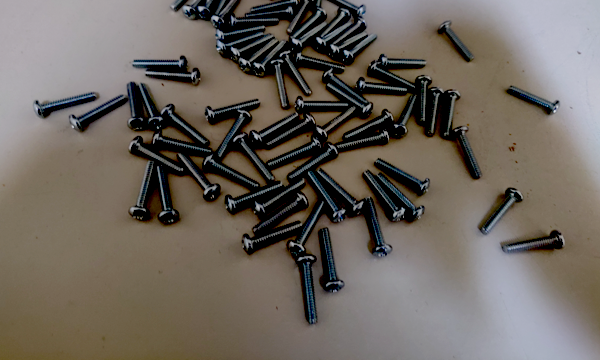longscrew: (251, 189, 308, 238), (68, 94, 127, 133), (361, 170, 405, 221), (242, 219, 306, 254), (378, 173, 423, 222), (224, 176, 283, 213), (174, 152, 219, 200), (253, 177, 306, 215), (481, 187, 522, 236), (511, 77, 561, 117), (130, 137, 183, 174), (163, 100, 205, 146), (268, 132, 323, 167), (282, 144, 337, 179), (320, 170, 363, 214), (307, 171, 344, 222), (313, 228, 342, 293), (448, 128, 484, 180), (379, 159, 429, 196), (32, 92, 100, 119), (327, 84, 377, 120), (232, 135, 271, 181), (291, 201, 322, 256), (150, 166, 178, 226), (343, 109, 395, 141), (205, 156, 256, 188), (324, 68, 369, 103), (216, 111, 250, 157), (363, 198, 389, 257), (253, 113, 298, 147), (270, 113, 315, 147), (371, 60, 418, 92), (301, 254, 320, 330), (240, 36, 278, 74), (495, 234, 568, 253), (441, 21, 474, 62), (279, 53, 310, 95), (205, 99, 263, 121), (138, 82, 165, 129), (153, 134, 213, 155), (218, 29, 270, 53), (296, 96, 355, 117), (230, 37, 277, 63), (335, 131, 391, 151), (133, 161, 152, 219), (327, 20, 367, 47), (297, 53, 348, 74), (124, 83, 146, 131), (254, 40, 286, 73), (319, 107, 353, 138), (343, 34, 380, 62), (271, 56, 289, 111), (133, 52, 190, 69), (147, 66, 204, 83), (316, 22, 353, 48), (359, 78, 412, 96), (329, 31, 368, 55), (293, 7, 326, 35), (291, 25, 329, 48), (214, 0, 244, 28), (445, 87, 460, 141), (401, 90, 417, 139), (288, 0, 311, 34), (231, 13, 278, 29), (219, 25, 265, 41), (247, 4, 294, 19), (326, 0, 369, 16), (321, 9, 348, 34), (429, 84, 441, 140), (382, 56, 432, 68), (419, 74, 430, 126), (182, 0, 212, 19), (209, 0, 238, 19), (253, 0, 300, 11), (198, 0, 227, 17), (174, 0, 203, 9), (316, 0, 329, 10)
